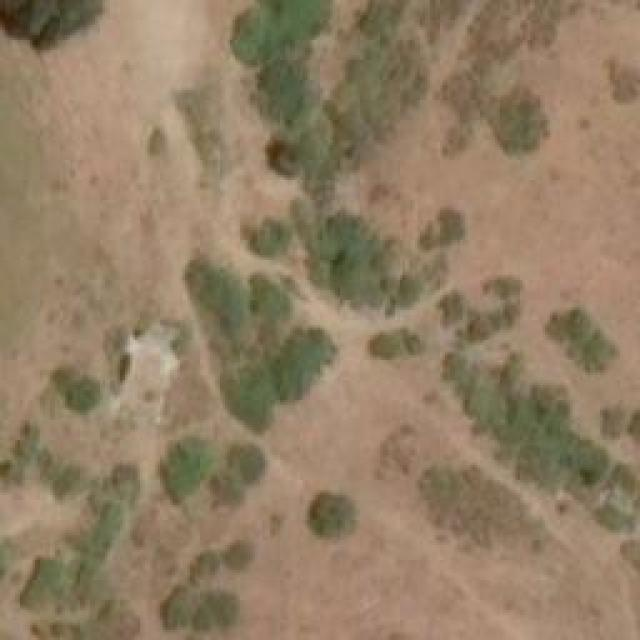Tree: (187, 257, 245, 345), (245, 270, 295, 345), (493, 87, 548, 155), (0, 0, 100, 35), (255, 63, 313, 123), (220, 357, 270, 425), (550, 310, 603, 373), (158, 585, 231, 630), (213, 443, 263, 506), (160, 435, 210, 493), (280, 335, 323, 395), (70, 602, 135, 640), (25, 555, 63, 610), (415, 208, 460, 251), (310, 495, 353, 538), (605, 53, 640, 103), (248, 215, 283, 255), (63, 377, 93, 405), (368, 330, 398, 358), (193, 550, 216, 583), (228, 540, 253, 570)
